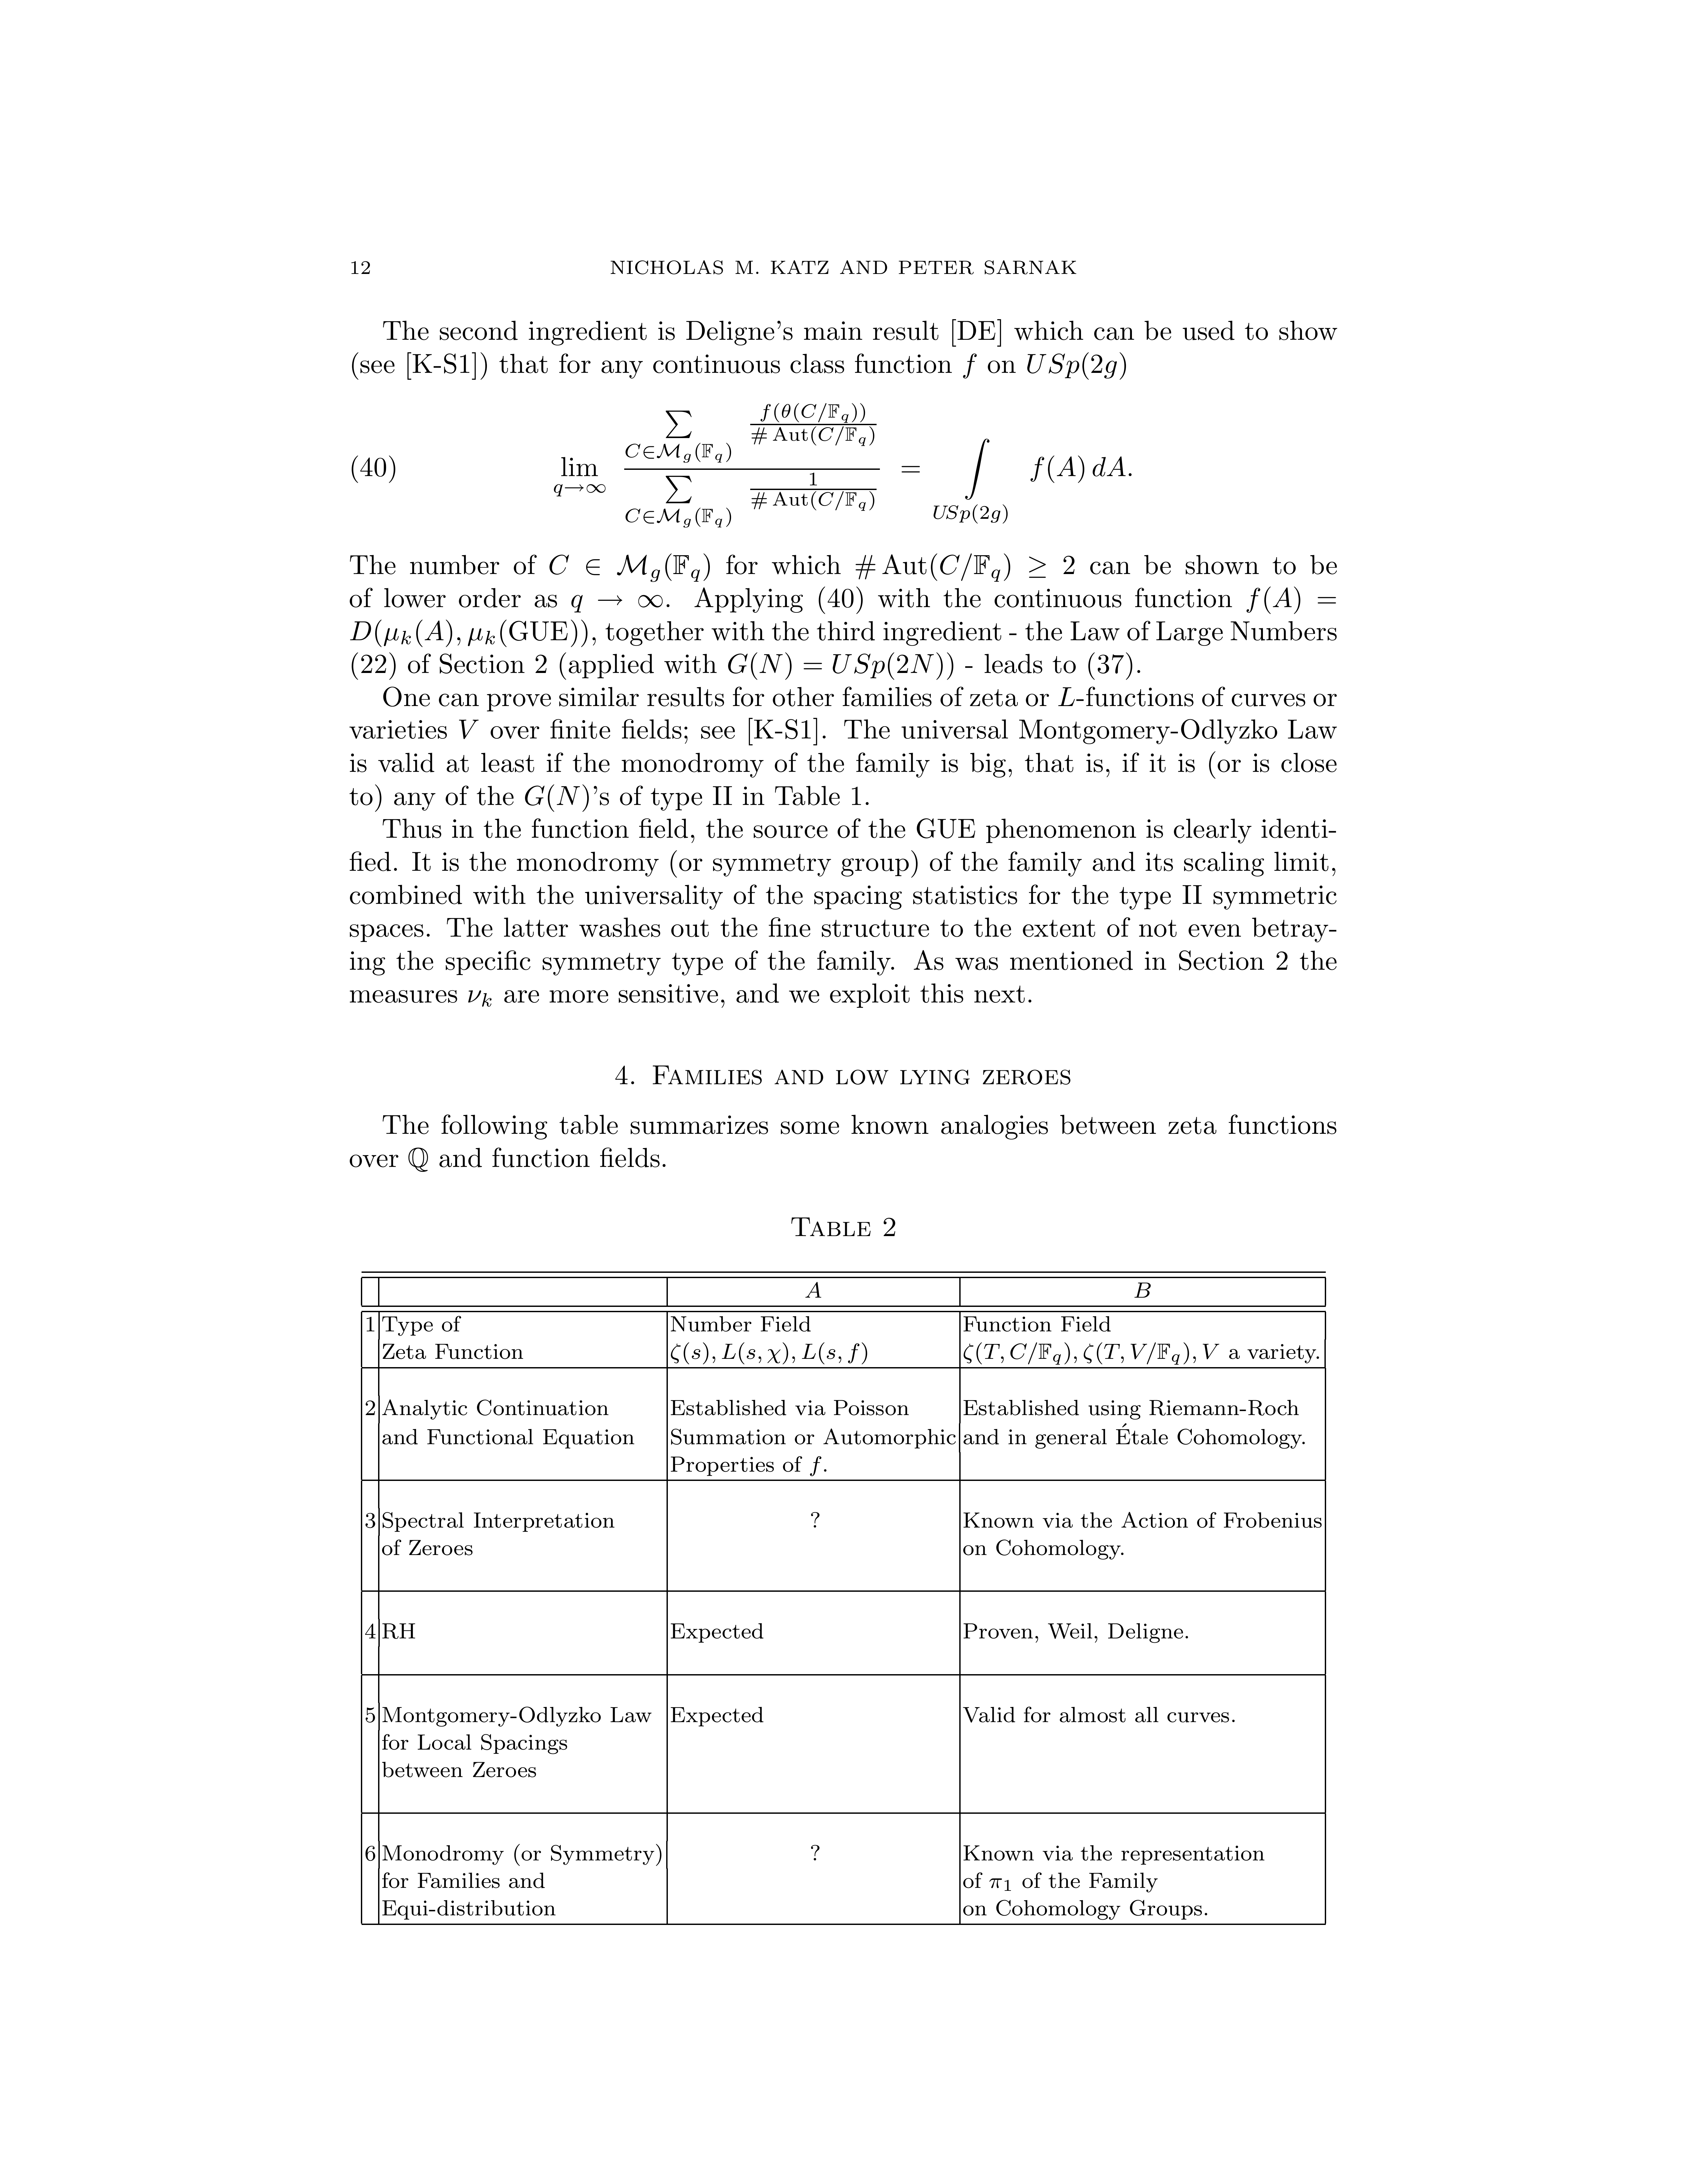maths: (555, 404, 1125, 528), (856, 553, 1074, 581), (728, 652, 953, 679), (549, 553, 709, 581), (468, 620, 587, 647), (349, 620, 461, 647), (1028, 353, 1125, 379), (1246, 587, 1336, 613), (525, 785, 588, 812), (571, 596, 663, 612), (409, 1147, 427, 1172), (459, 720, 478, 739), (468, 991, 491, 1007), (962, 355, 976, 378), (560, 652, 565, 679)
